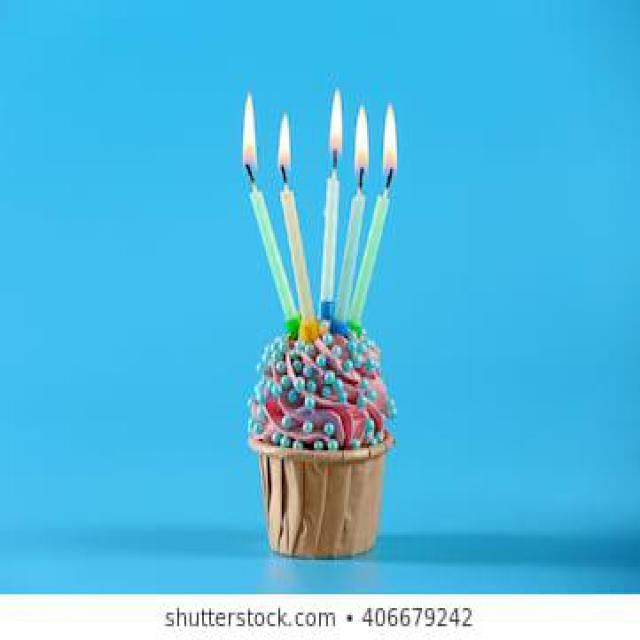Fire: (383, 103, 397, 176), (244, 92, 256, 175), (356, 104, 370, 173), (278, 112, 292, 176), (330, 89, 342, 156)
